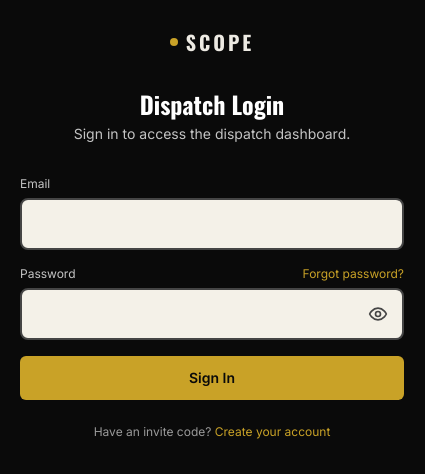
Login › account lockout › blocks the sign-in attempt and shows a countdown when the account is locked
The width and height of the screenshot is (425, 474).
In the field: (212, 224) left=20, top=198, right=404, bottom=250, type "locked@scope.test"
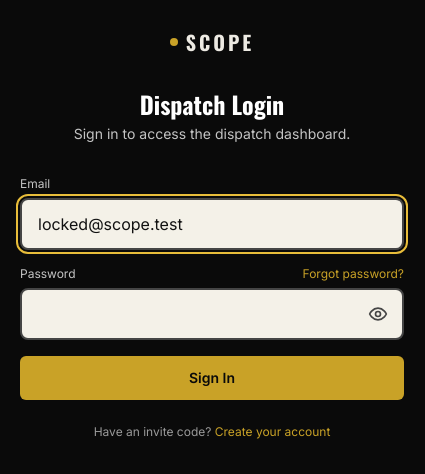
In the password field: (212, 314) left=20, top=288, right=404, bottom=340, type "whatever1"
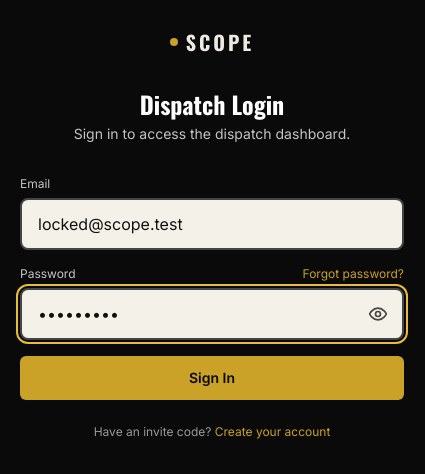
Click the button "Sign In": (212, 378) left=20, top=356, right=404, bottom=400
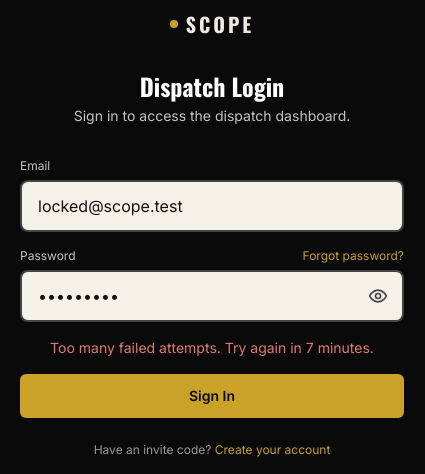
Expected: the text "Too many failed attempts. Try again in 7 minutes." is shown, left=50, top=339, right=374, bottom=356
